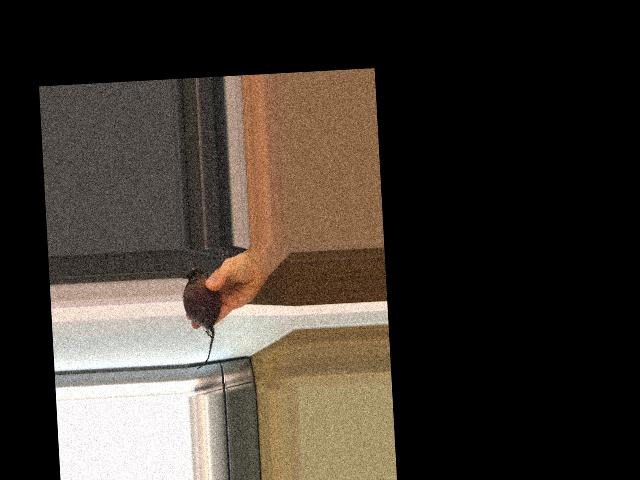beet: (180, 263, 224, 369)
